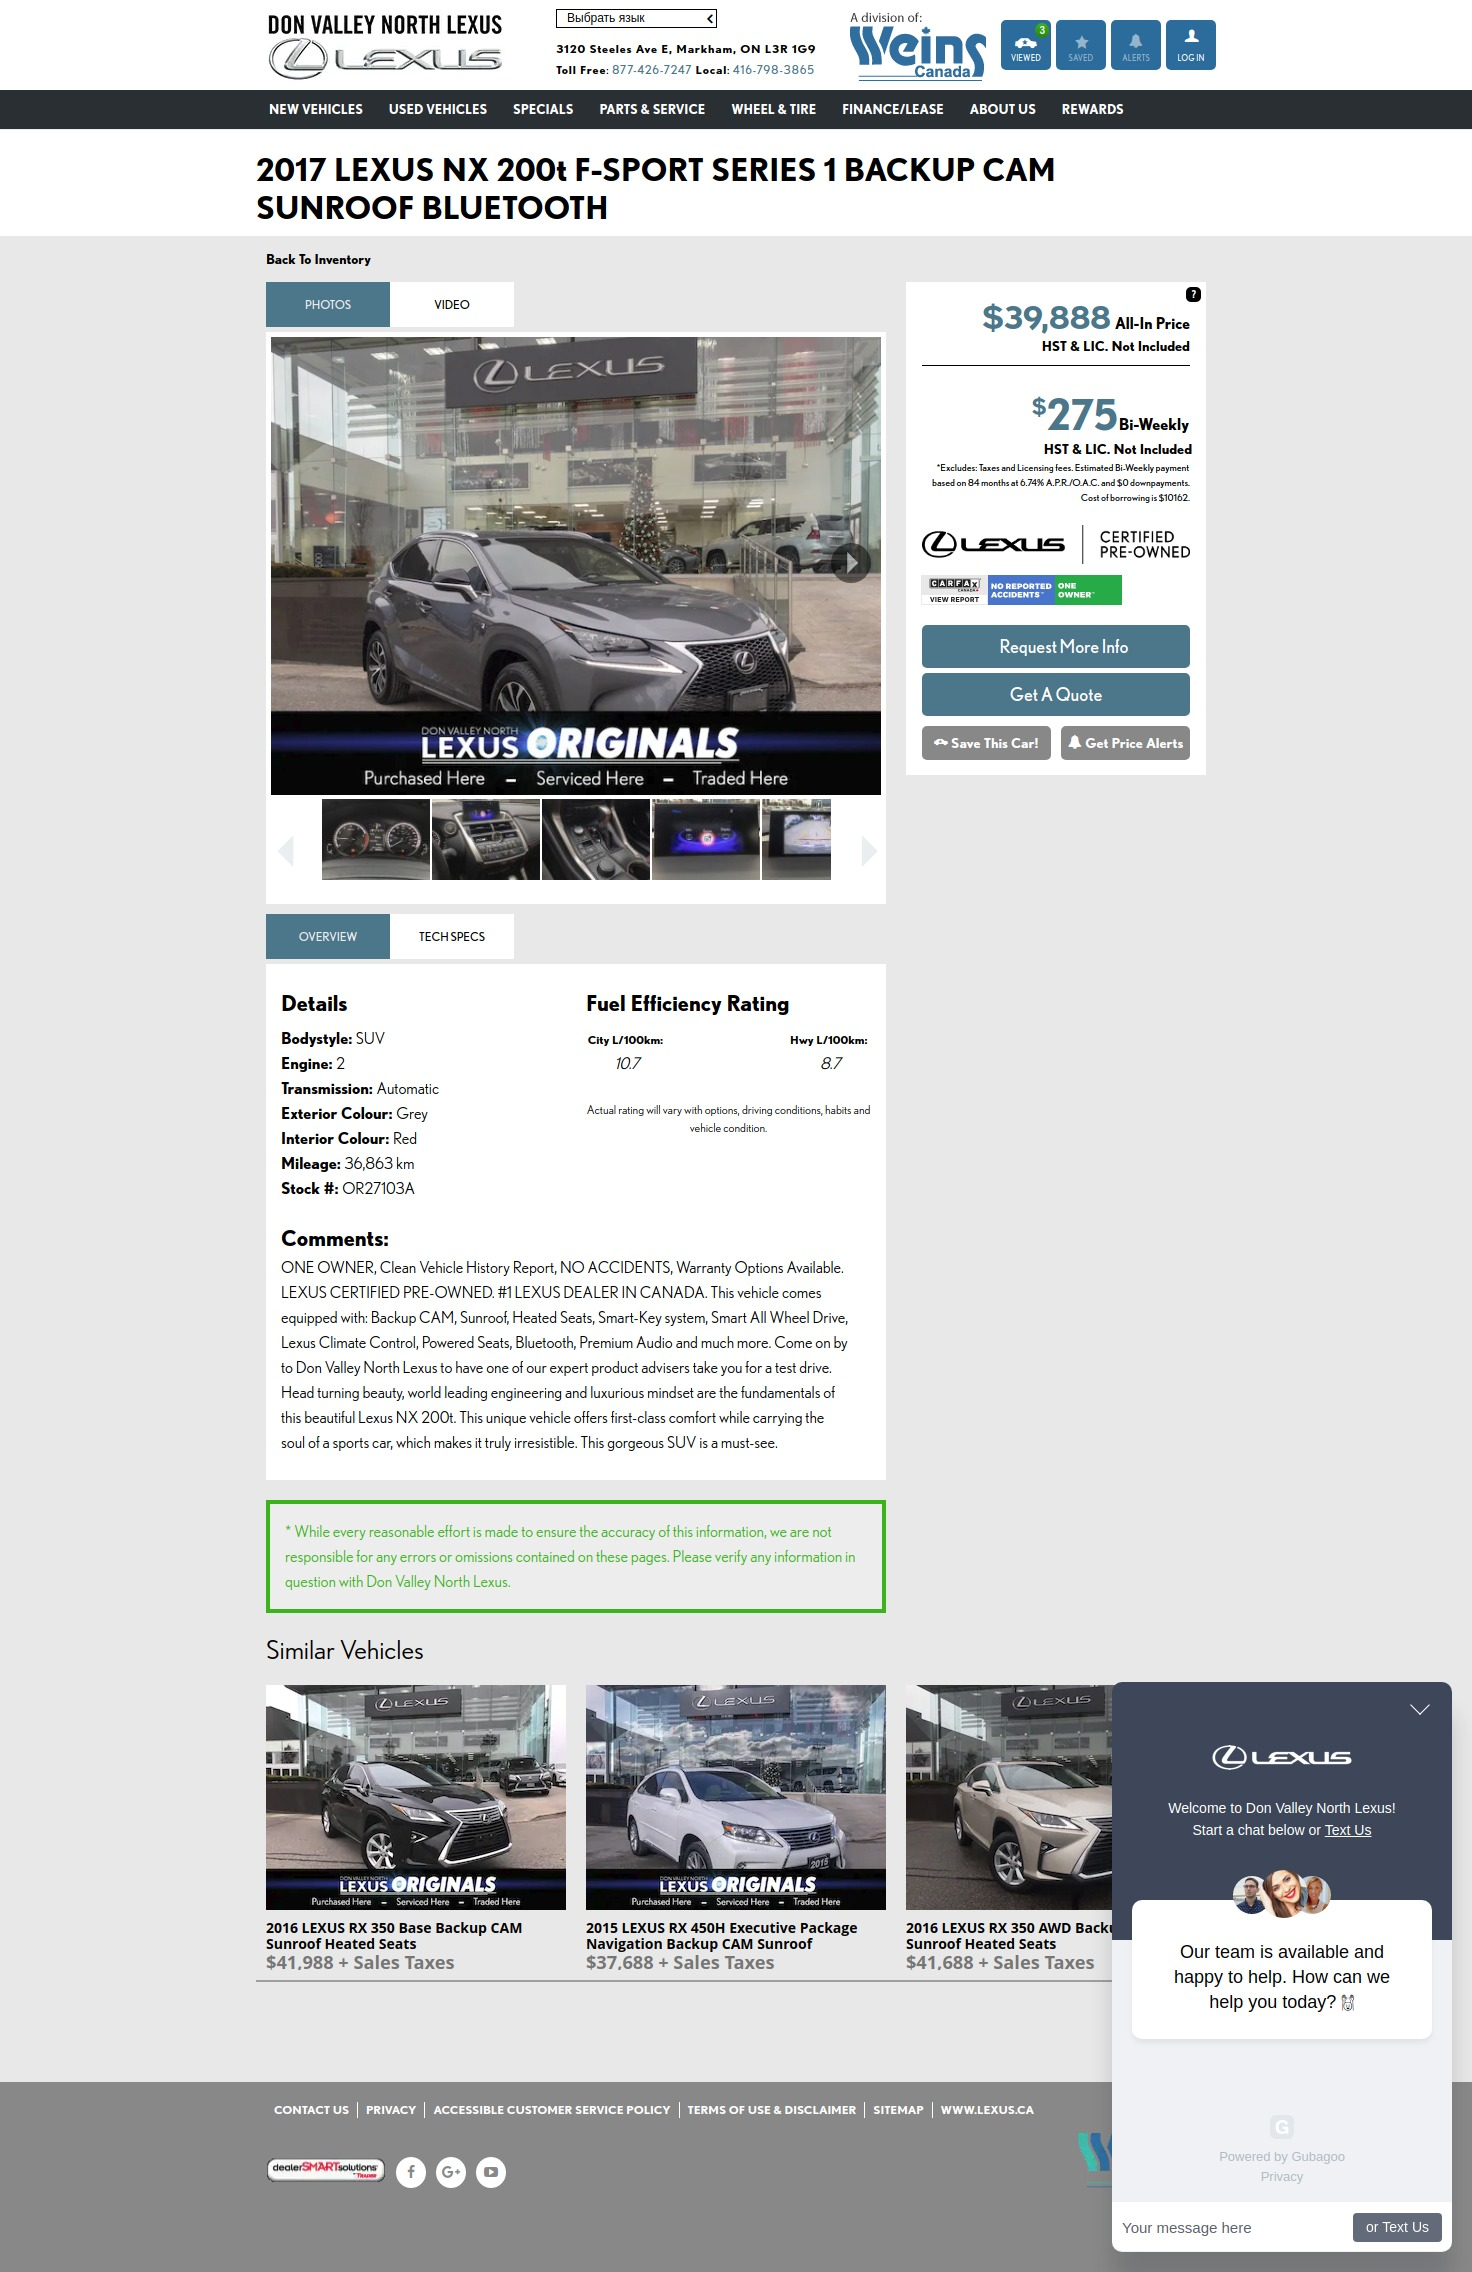car: (859, 835, 879, 868)
